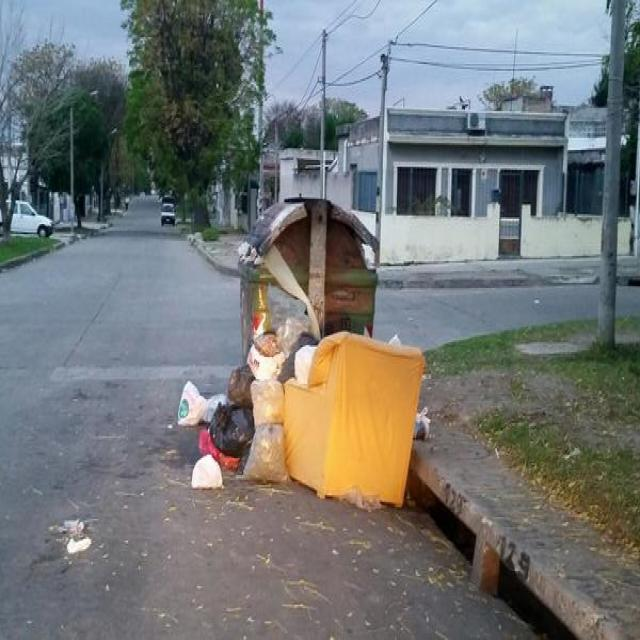garbage: (176, 309, 437, 515)
